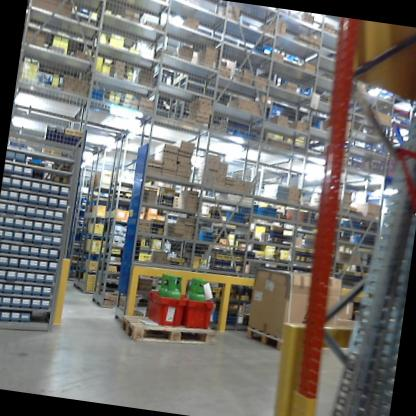pallet: (117, 308, 221, 354), (245, 324, 361, 361)
small_load_carrier: (140, 282, 192, 334), (181, 297, 221, 336)
